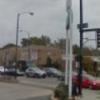cars: (72, 72, 100, 91)
